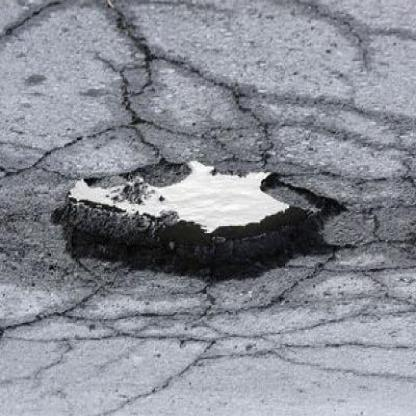pothole: (51, 154, 350, 294)
